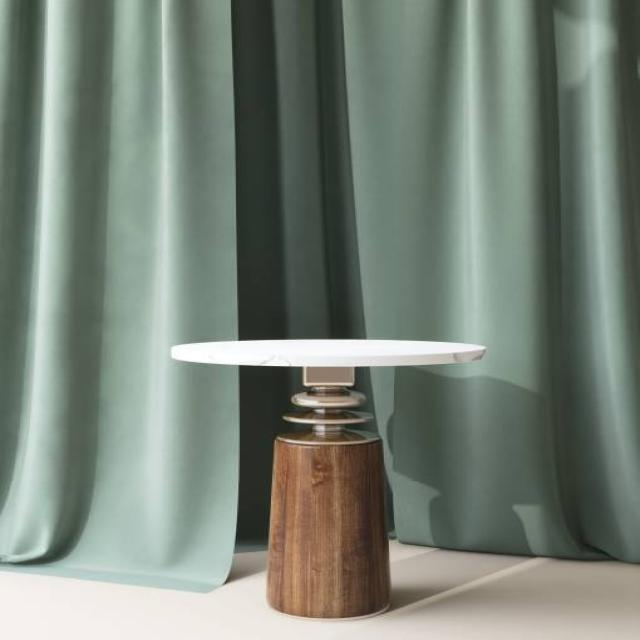table: (168, 336, 486, 620)
